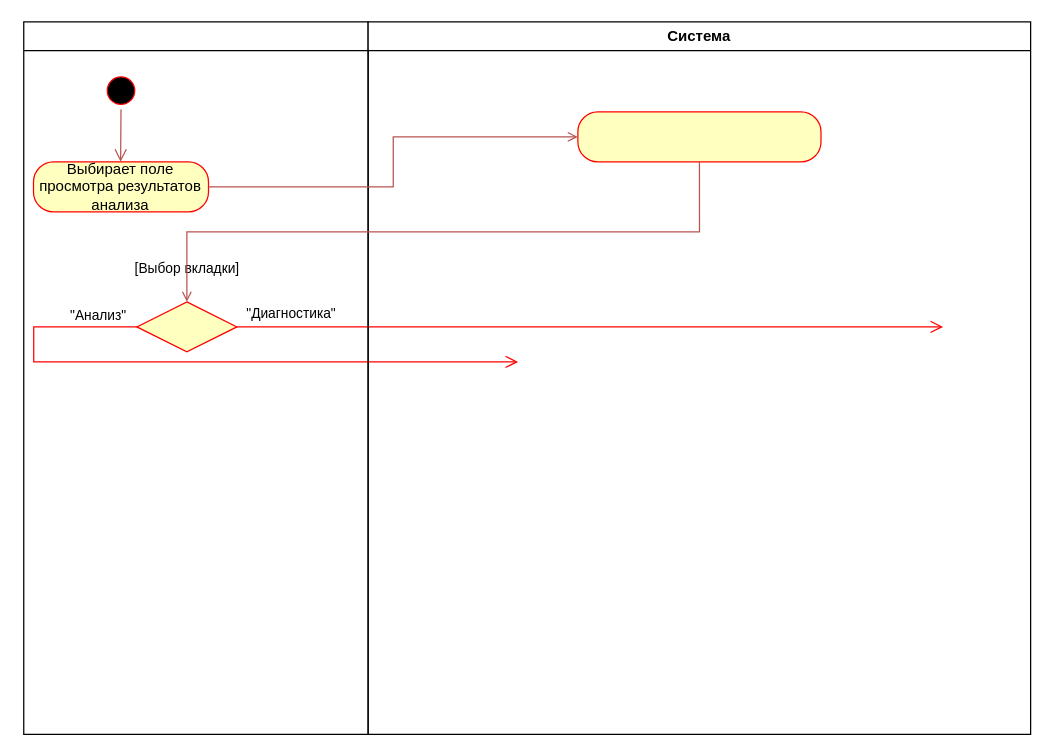
Some shapes in this 1053 by 756 pixel diagram are drawn without their labels. The box of each missing label's shape, as (x1, y1, x2, y2) in pixels:
Отобразить интерфейс с вкладками "Анализ" и "Диагностика": (577, 111, 821, 162)
Пользователь: (22, 21, 368, 734)
